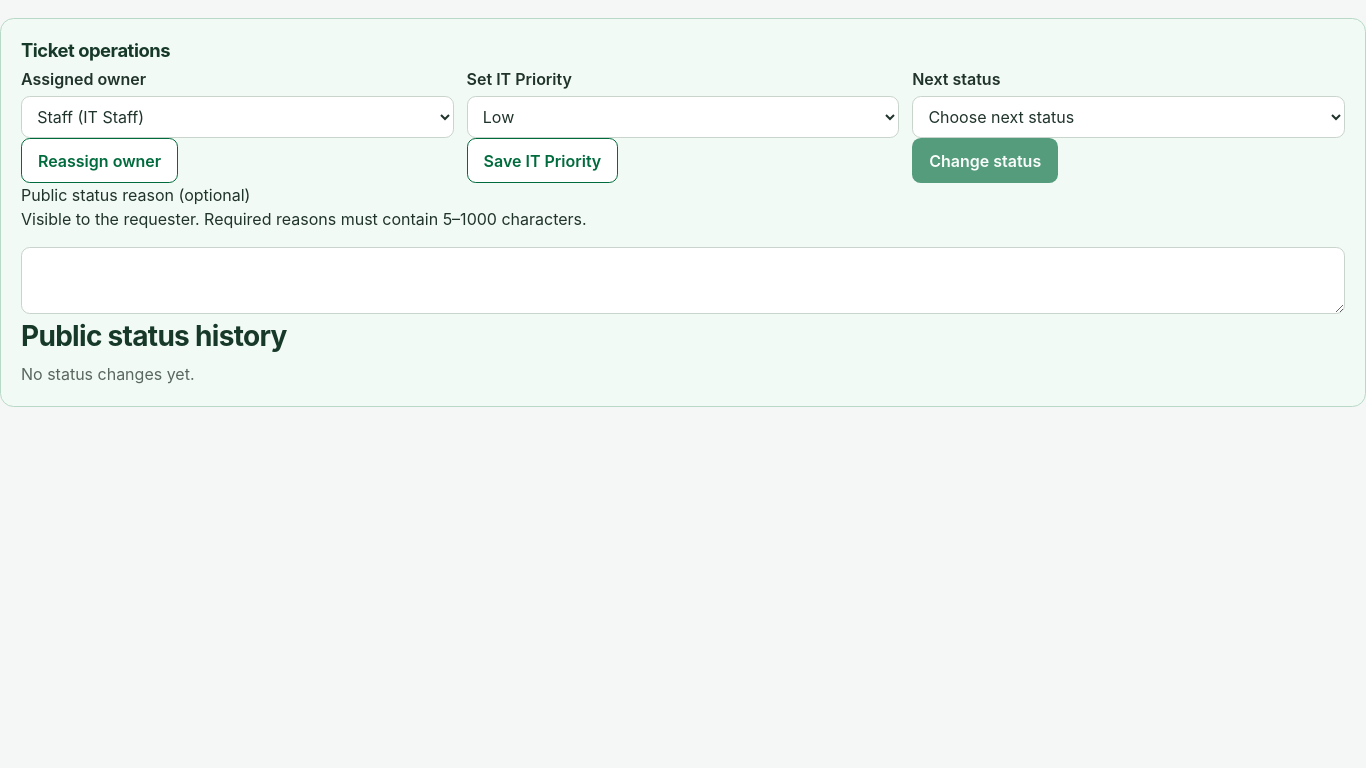
Test: contains keyboard focus and suppresses repeated confirmation while saving
Select "In Progress" in the dropdown labelled "Next status" at (1129, 117), box [912, 96, 1345, 138]
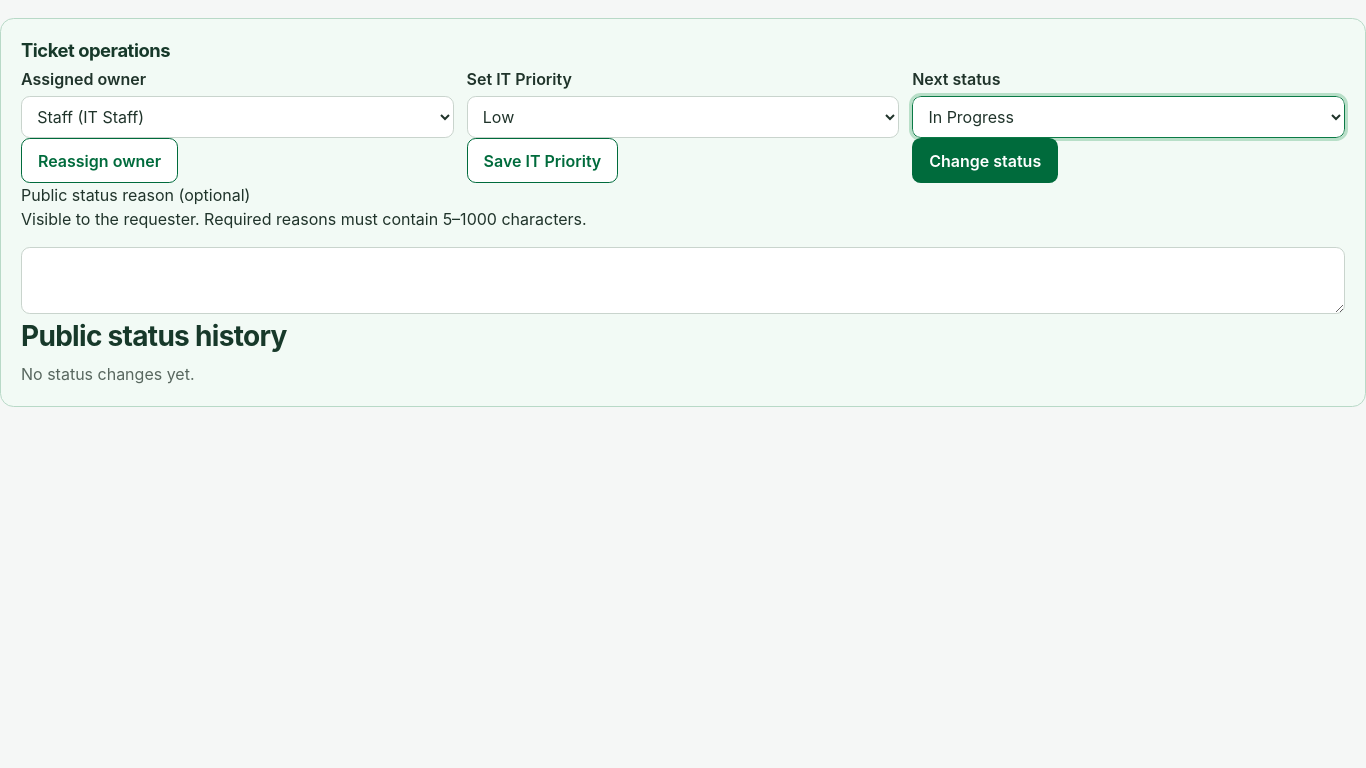
Click the button "Change status".
click(985, 161)  # box [912, 138, 1058, 183]
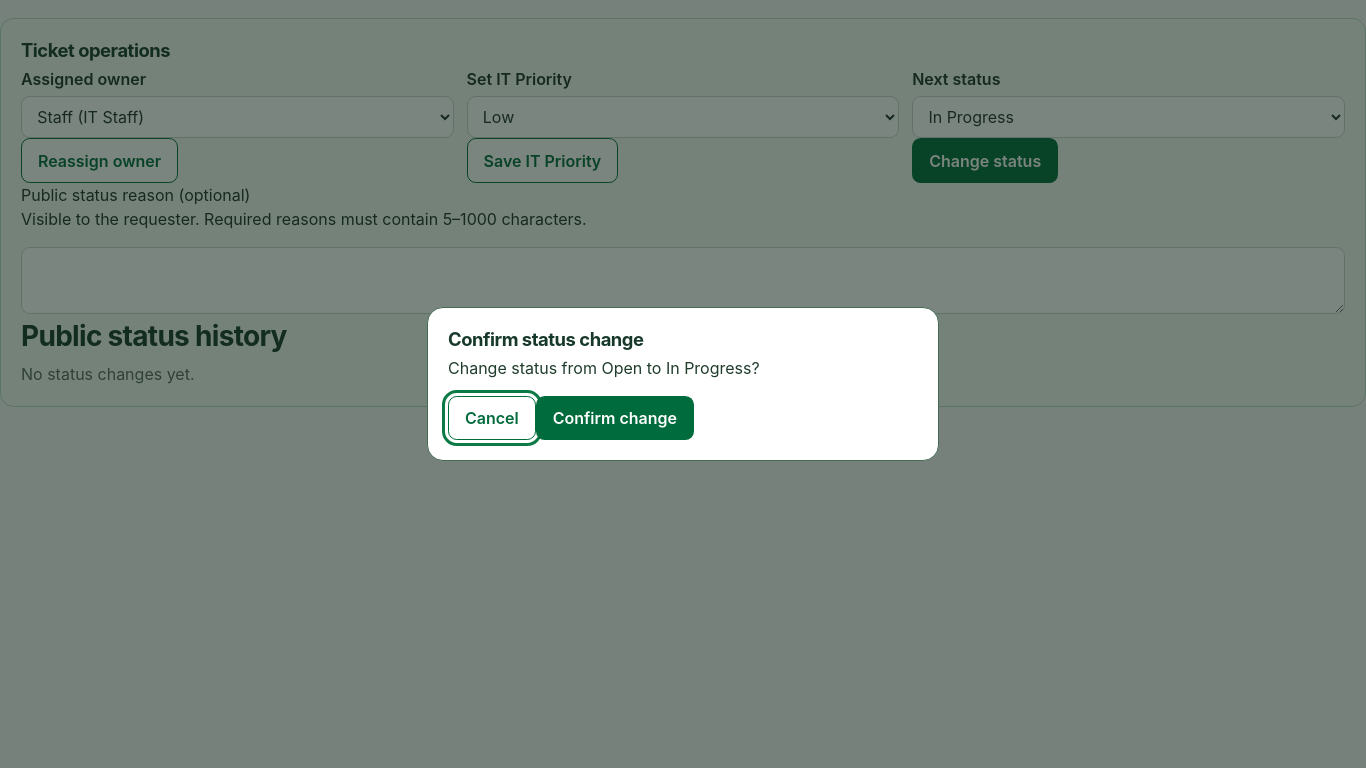
Press Shift+Tab
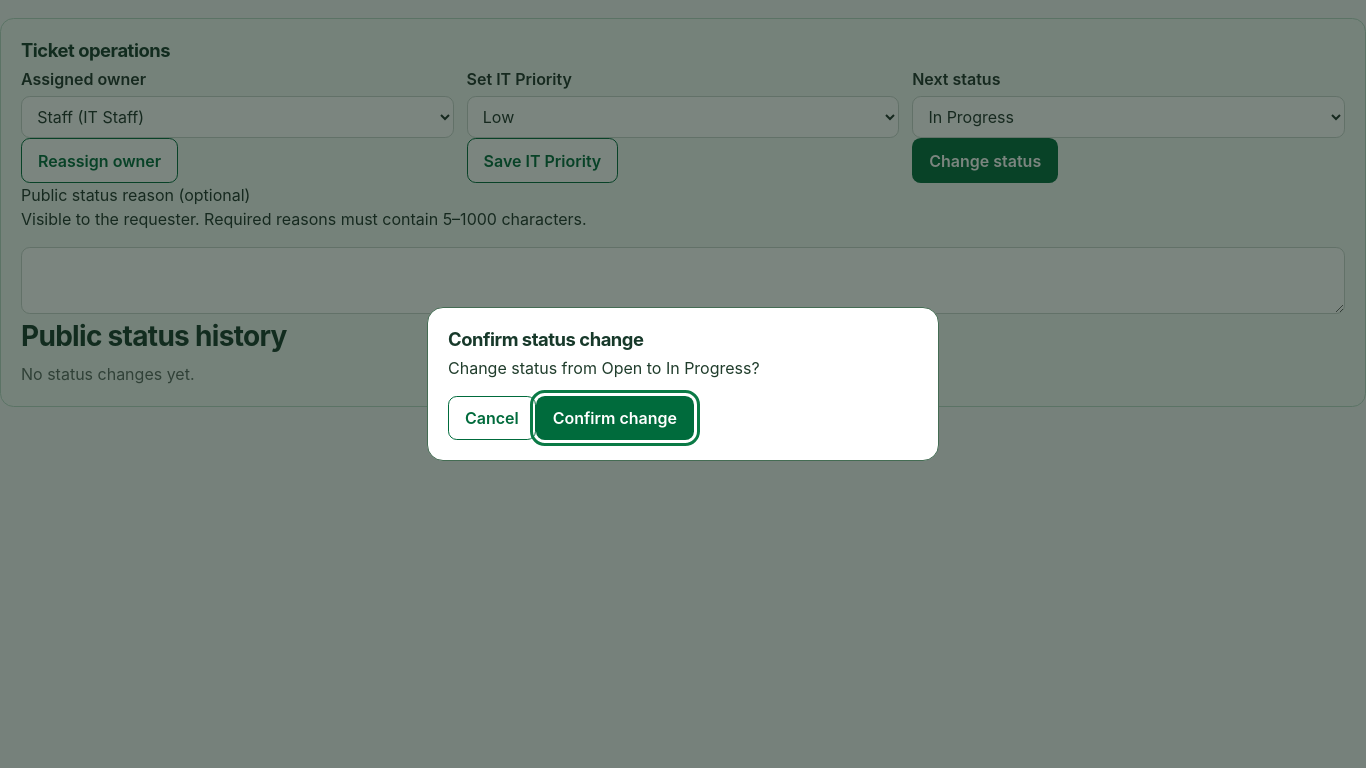
Press Tab
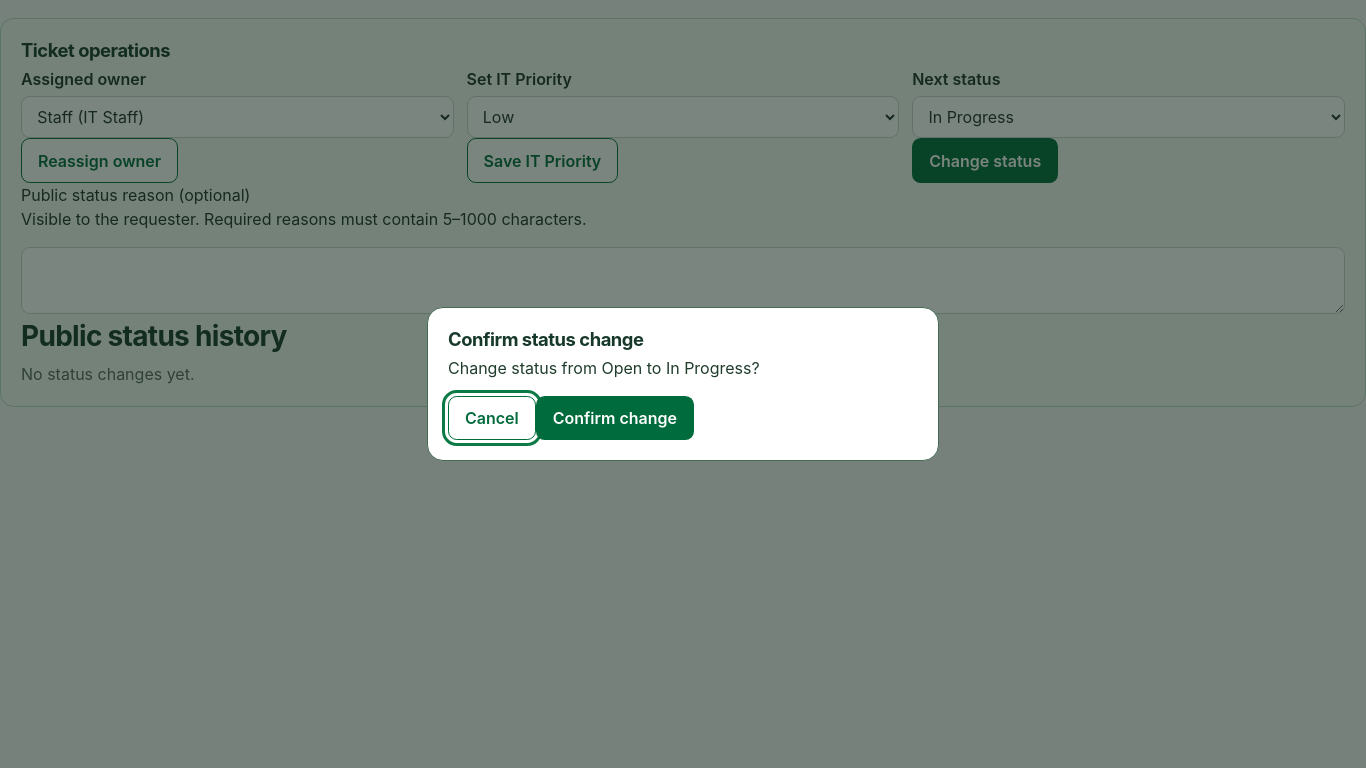
Double-click the button "Confirm change".
double_click(615, 418)  # box [536, 396, 694, 440]
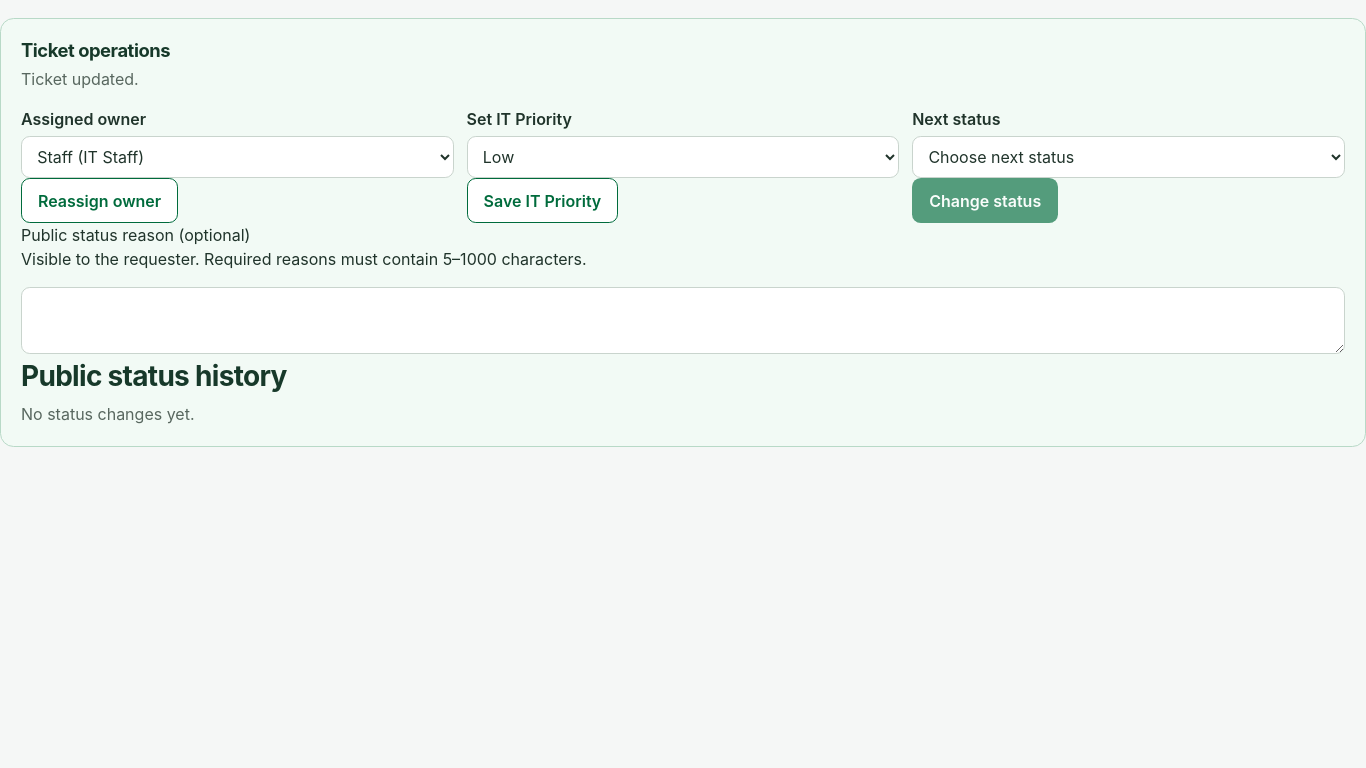
Check: the text "Ticket updated." is shown, box [21, 69, 139, 89]
